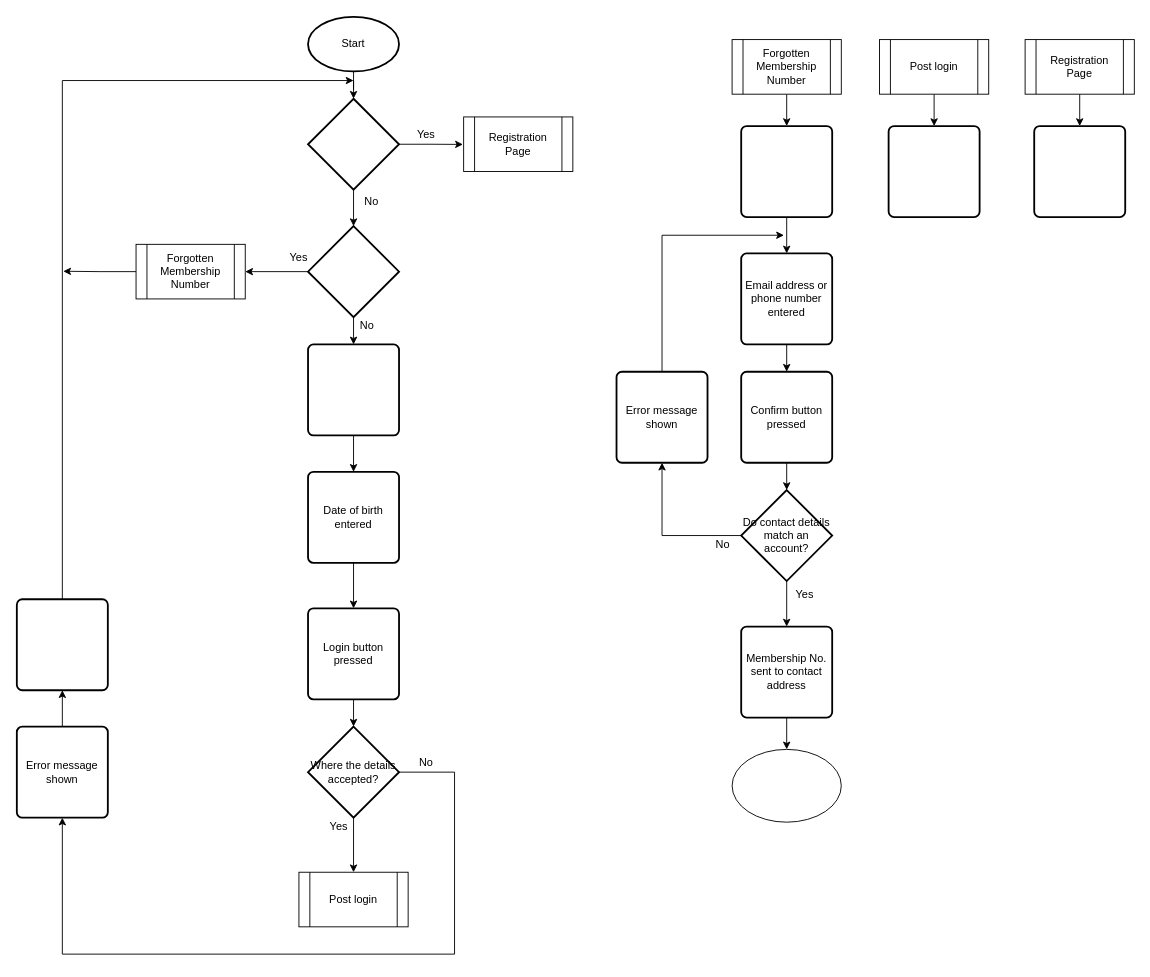
Image size: 1150x977. Some labels were removed from this diagram. Each missing label, with the centre of its shape:
"Does the user want to register for an account?" belongs at point 353,143.
"End" belongs at point 786,785.
"Has the user forgotten their Membership No.?" belongs at point 353,271.
"Membership No. and date of birth fields cleared" belongs at point 61,644.
"Membership No. entered" belongs at point 353,389.
"Take user to the registration page" belongs at point 1079,171.
"User taken to Forgotten Membership No. page" belongs at point 786,171.
"User taken to relevant page depending on account type" belongs at point 933,171.
